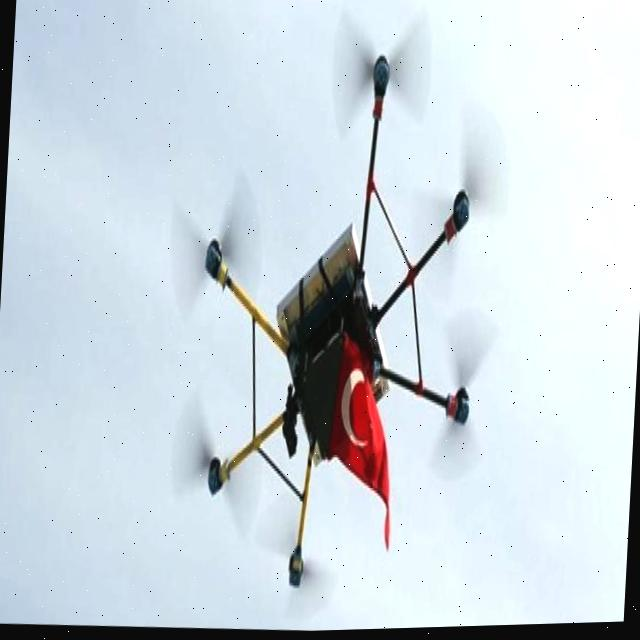drone: (149, 0, 537, 600)
